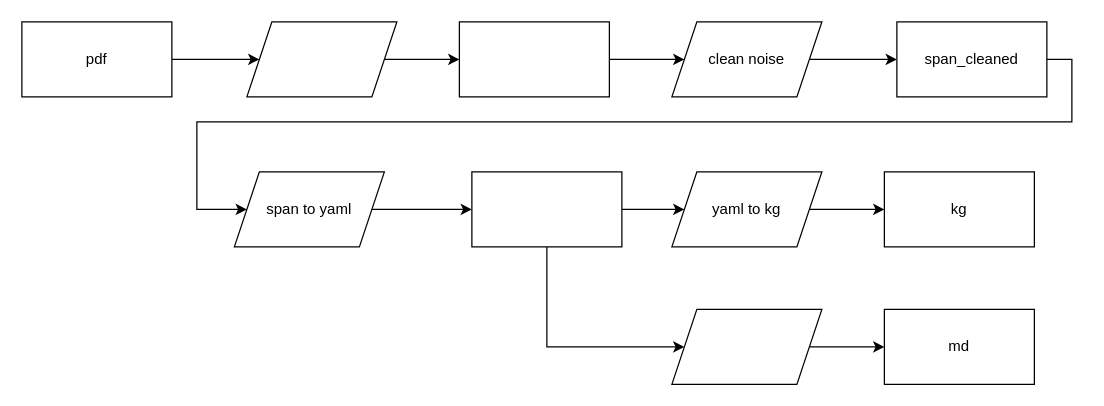
Image size: 1104x406. Some labels were removed from this diagram. The centre of each missing label's shape, as x and y in pixels:
pdf to span: the point at 321,59
span: the point at 533,59
yaml: the point at 546,209
yaml to md: the point at 746,346
